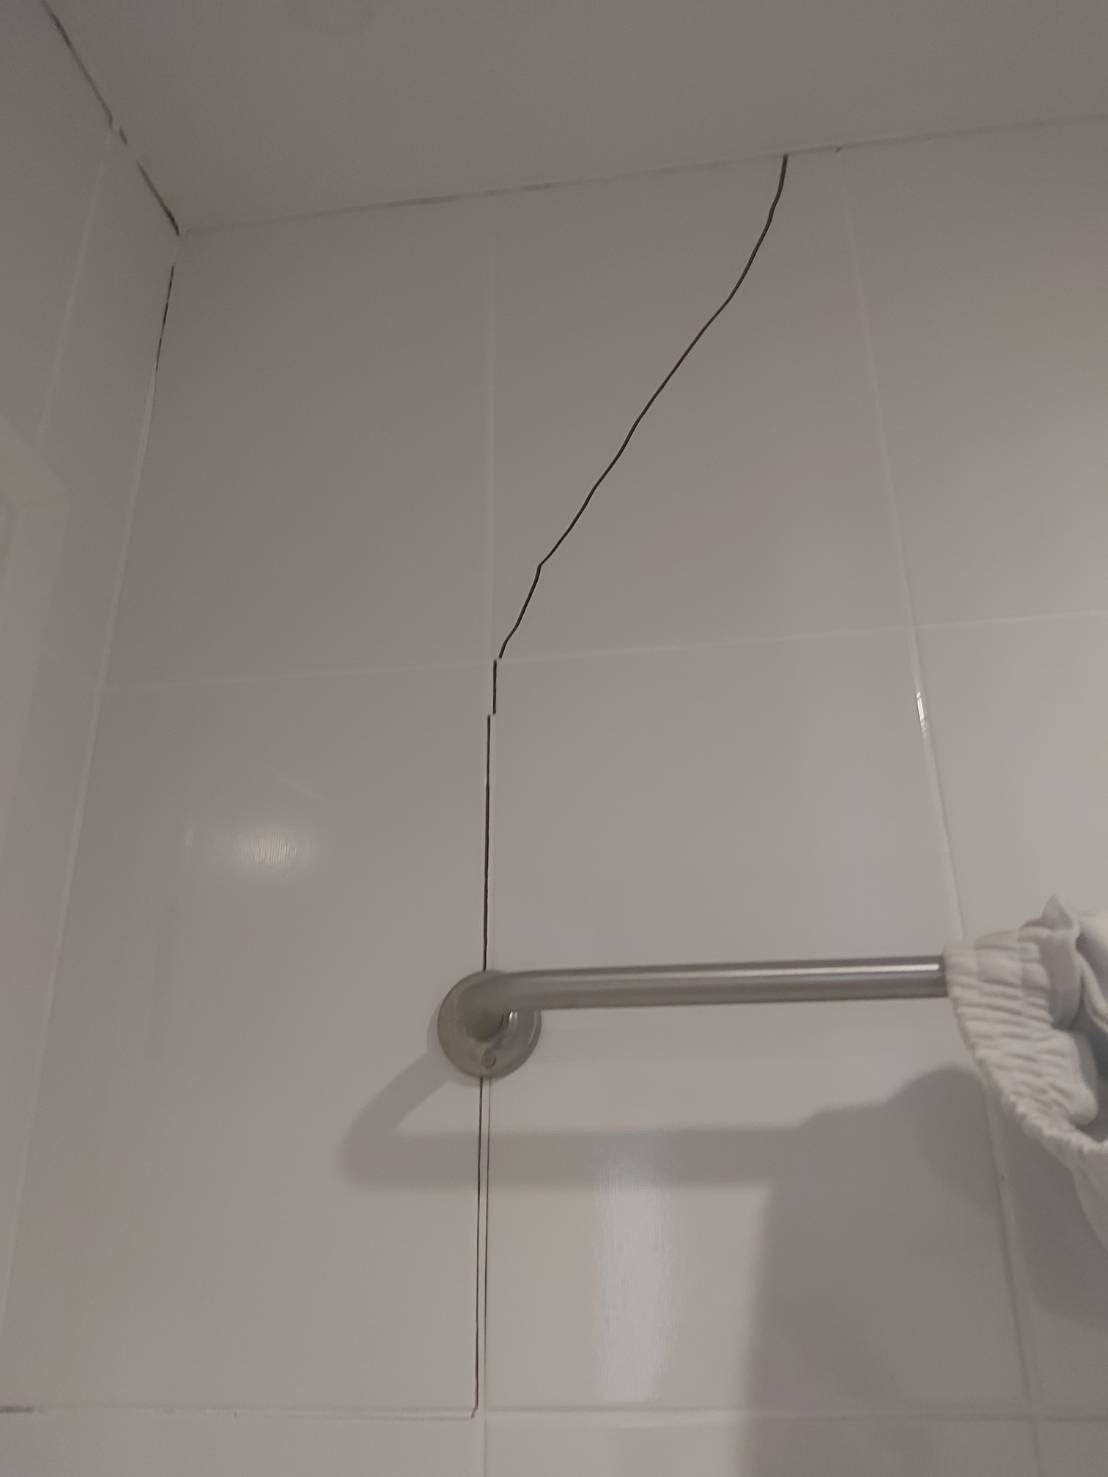Medium: (285, 222, 821, 926)
